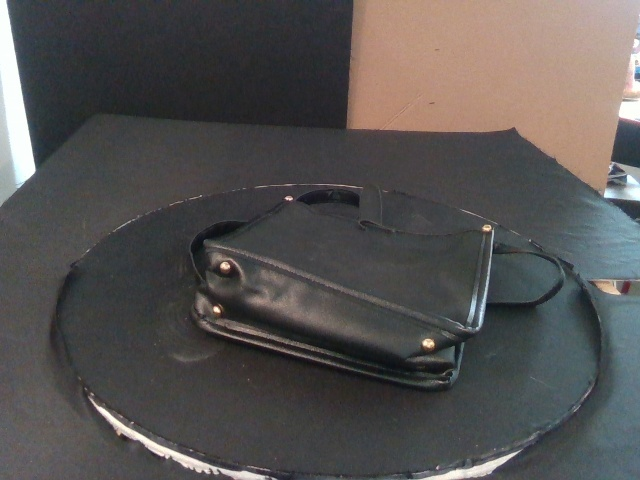bag: (189, 197, 495, 393)
